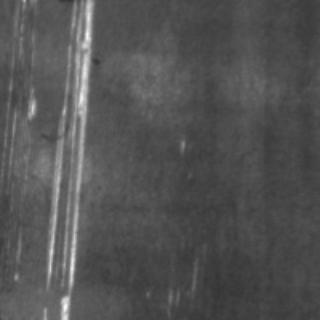scratches: (37, 0, 94, 316)
